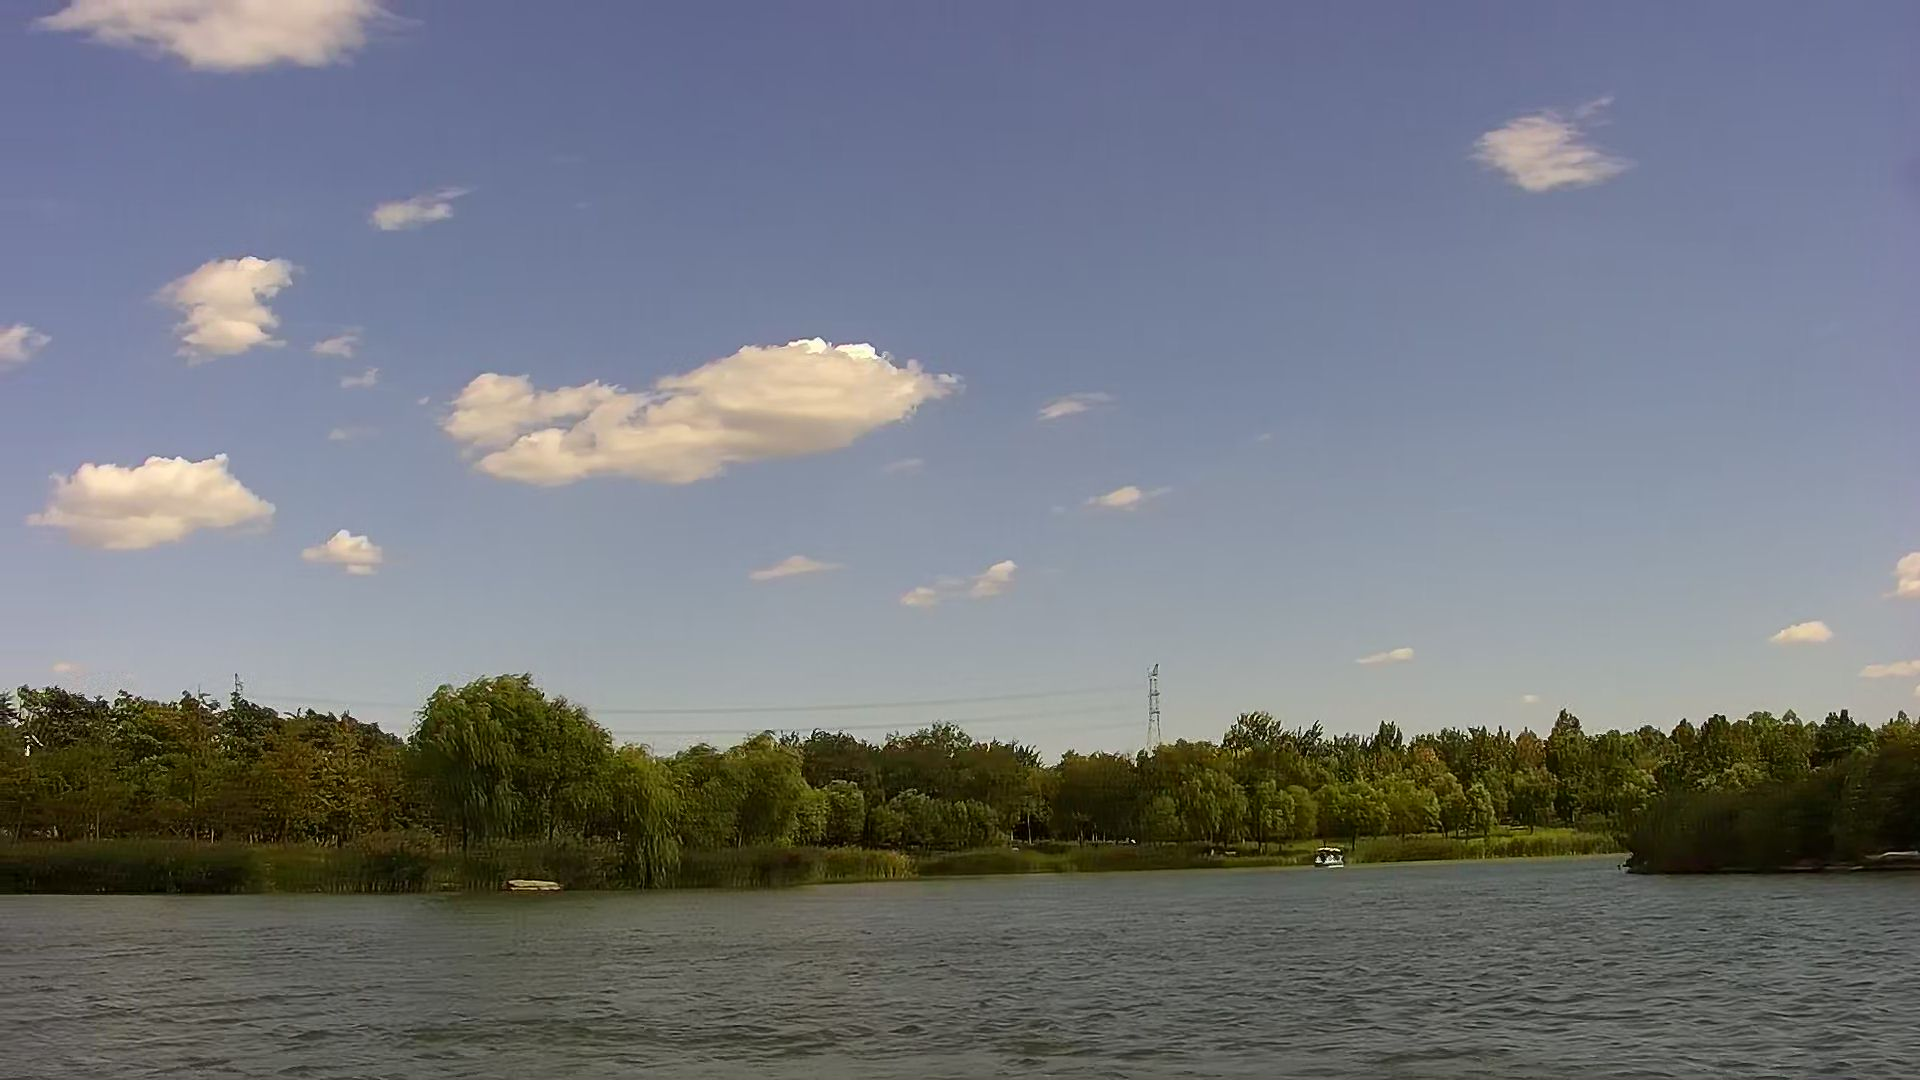boat: (1315, 847, 1346, 866)
rock: (506, 874, 556, 891), (1873, 851, 1905, 866)
